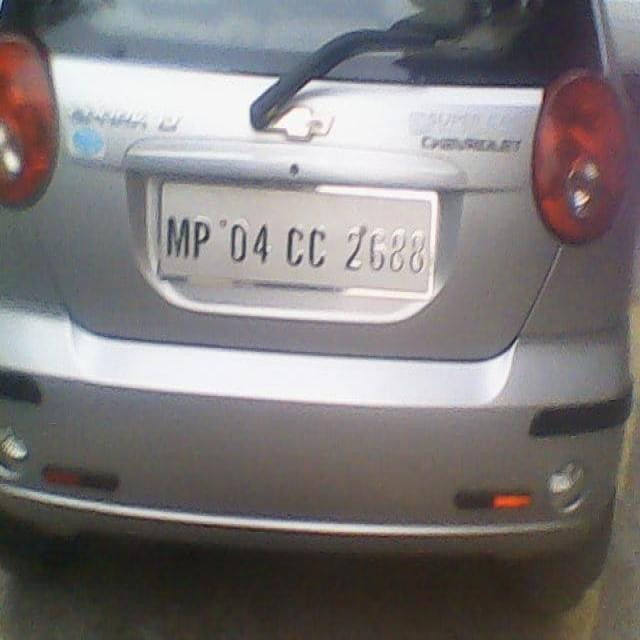number_plate: (145, 166, 442, 326)
